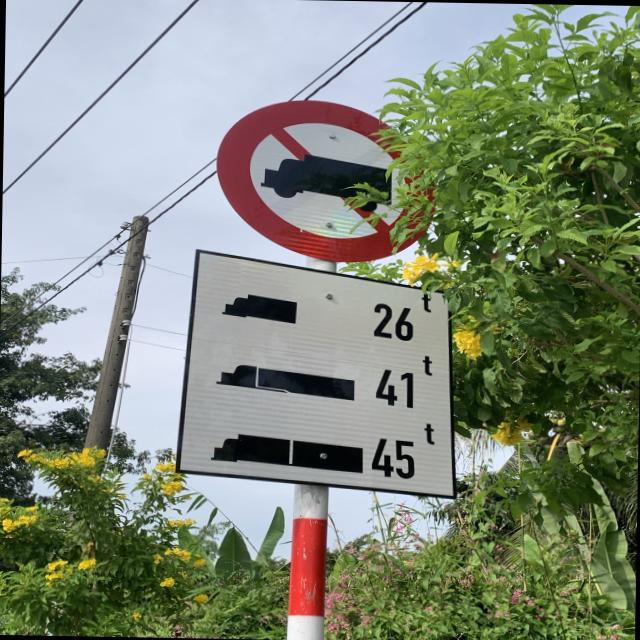Cam_Xe_Tai: (215, 98, 444, 266)
